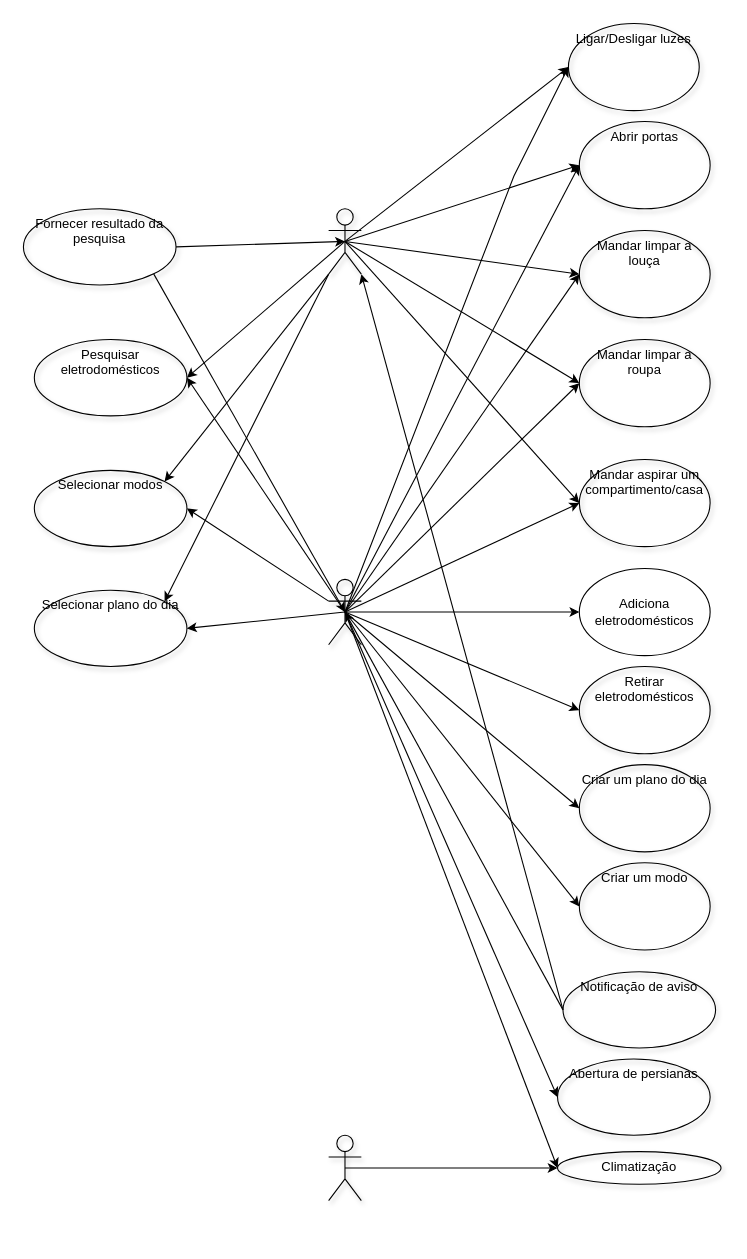
The diagram is 747 pixels wide and 1259 high, and some of its shapes have lost their labels. Here are the shapes that lost their labels. From the top down, the centre of each, then its label:
At point 345,242: "Utilizador".
At point 345,613: "Administrador".
At point 345,1169: "Clima".
